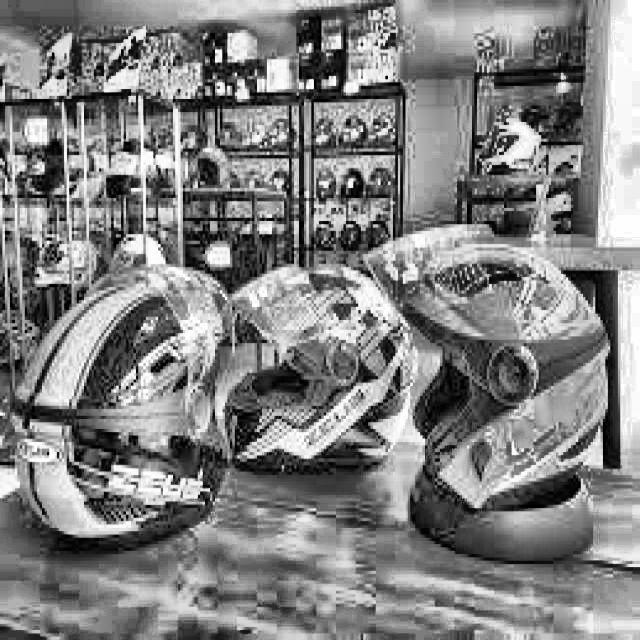Helmet: (360, 213, 616, 524), (9, 265, 236, 556), (232, 263, 411, 485)
